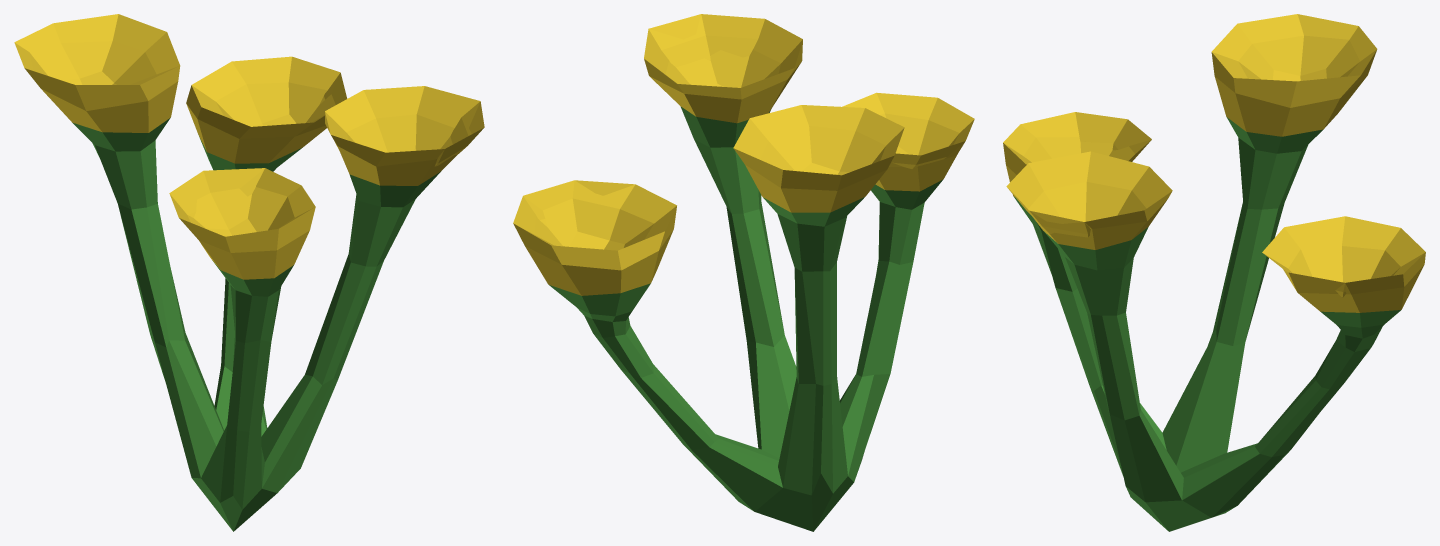
Rendered from flower1.fbx.
3 renders of one model, left to right at view 1: azimuth 30°, elevation 25°; view 2: azimuth 150°, elevation 25°; view 3: azimuth 270°, elevation 25°, orthographic. The views are drawn at different scales.
Parts seen in each view (by area): view 1: Plane; view 2: Plane; view 3: Plane.
Part boxes in pixels (x1,y1,x2,y2): Plane: [14, 14, 484, 531]; Plane: [513, 14, 974, 531]; Plane: [1003, 14, 1425, 531].
Bounding box in the file's own units: 29.89 × 37.11 × 31.64.
